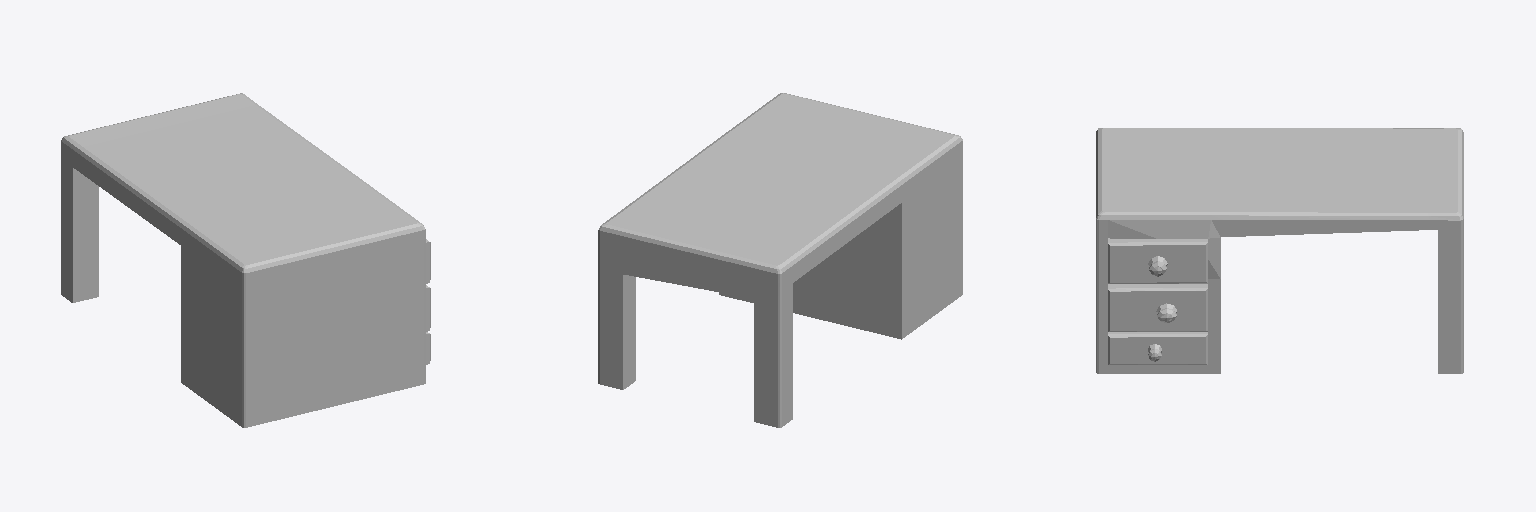
File: Desk.obj
The picture shows the model from 3 angles: view 1: azimuth 30°, elevation 25°; view 2: azimuth 150°, elevation 25°; view 3: azimuth 270°, elevation 25°; orthographic projection.
Visible parts, largest first — view 1: polySurface3; view 2: polySurface3; view 3: polySurface3.
Part boxes in pixels (bbox=[...]): polySurface3: bbox=[61, 93, 430, 427]; polySurface3: bbox=[598, 93, 962, 427]; polySurface3: bbox=[1096, 128, 1463, 373].
Bounding box in the file's own units: 49.45 × 36.22 × 75.47.